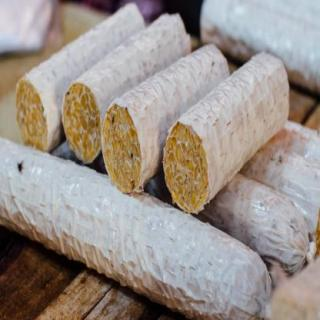Tempe: (13, 3, 292, 217)
